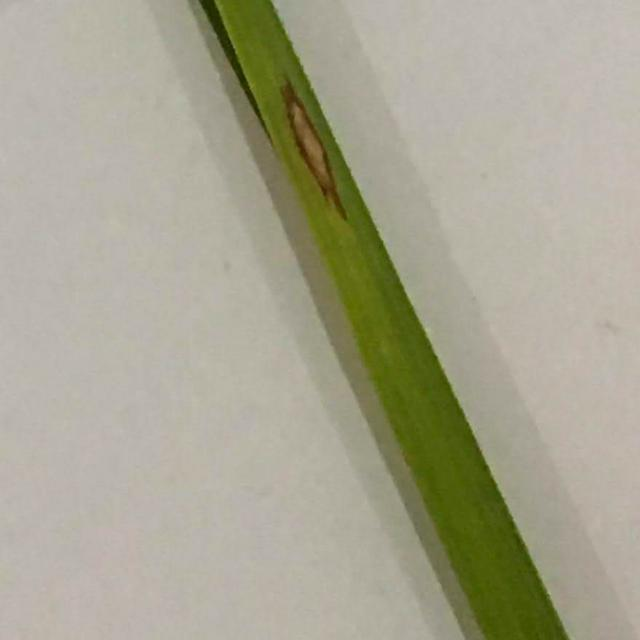Blast: (283, 102, 339, 196)
